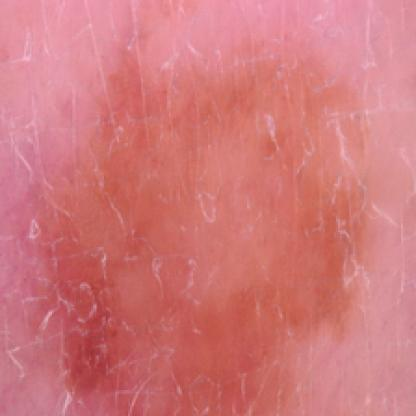benign: (56, 78, 373, 405)
